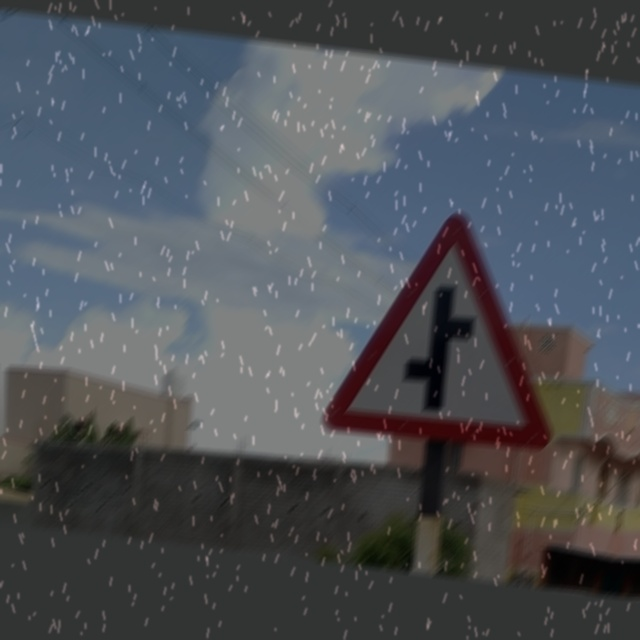Staggered_Intersection: (314, 199, 581, 464)
